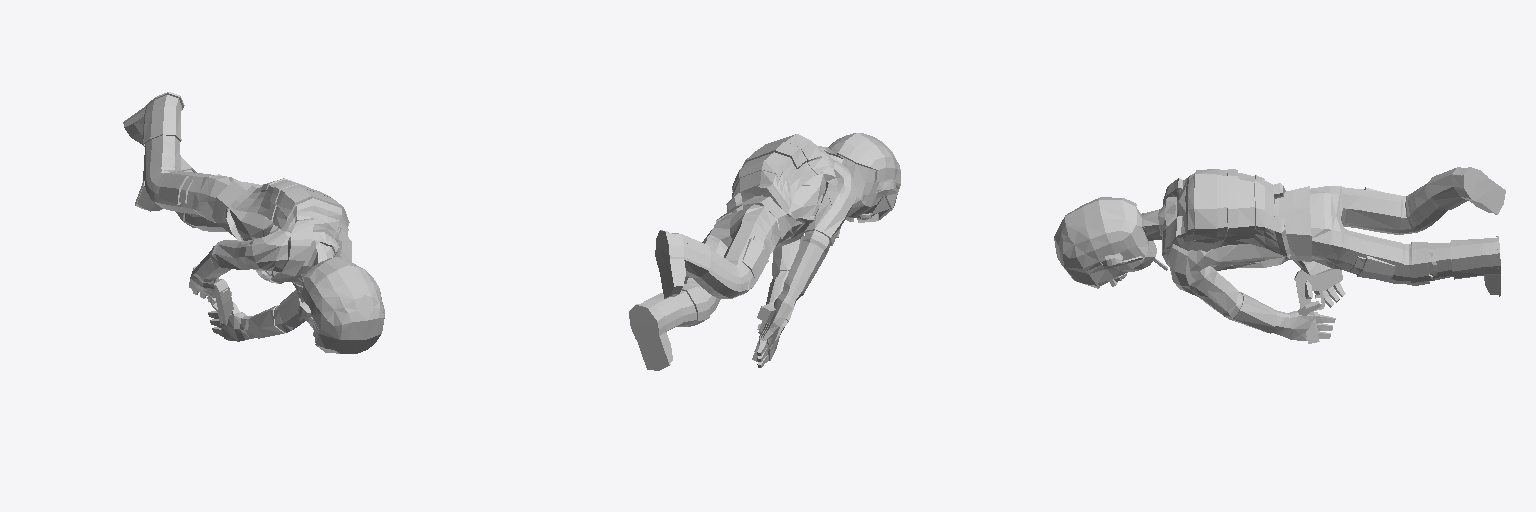
File: frame_0041.obj
3 views of the same model, side by side, from view 1: azimuth 30°, elevation 25°; view 2: azimuth 150°, elevation 25°; view 3: azimuth 270°, elevation 25° (orthographic).
Parts seen in each view (by area): view 1: Body, Gun; view 2: Body; view 3: Body, Gun.
Part boxes in pixels (left/top/right/bottom): Body: left=123, top=92, right=384, bottom=353; Gun: left=193, top=264, right=233, bottom=340; Body: left=629, top=133, right=900, bottom=370; Body: left=1054, top=167, right=1505, bottom=340; Gun: left=1294, top=268, right=1342, bottom=343.
Bounding box in the file's own units: 1.13 × 1.9 × 4.2.